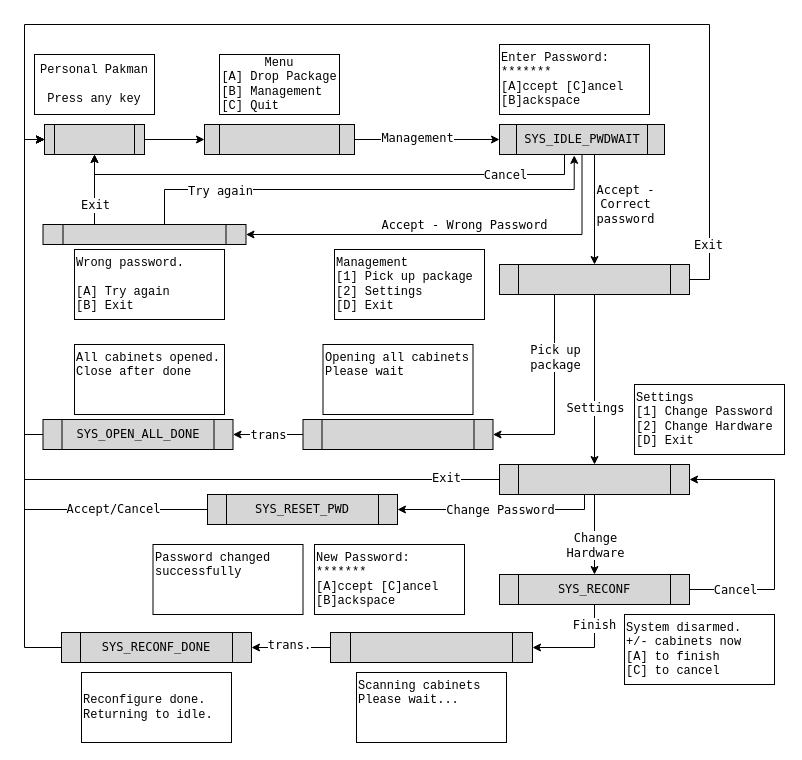
The diagram is 802 pixels wide and 760 high, and some of its shapes have lost their labels. Here are the shapes that lost their labels. From the top down, the centre of each, then its label:
At (94,139): "SYS_IDLE".
At (279,139): "SYS_CHOOSE_OP".
At (144,234): "SYS_IDLEAUTH_WRONGPWD".
At (594,279): "SYS_MGMT".
At (397,434): "SYS_OPEN_ALL_WAIT".
At (594,479): "SYS_SETTINGS".
At (431,647): "SYS_RECONF_DETECT".
